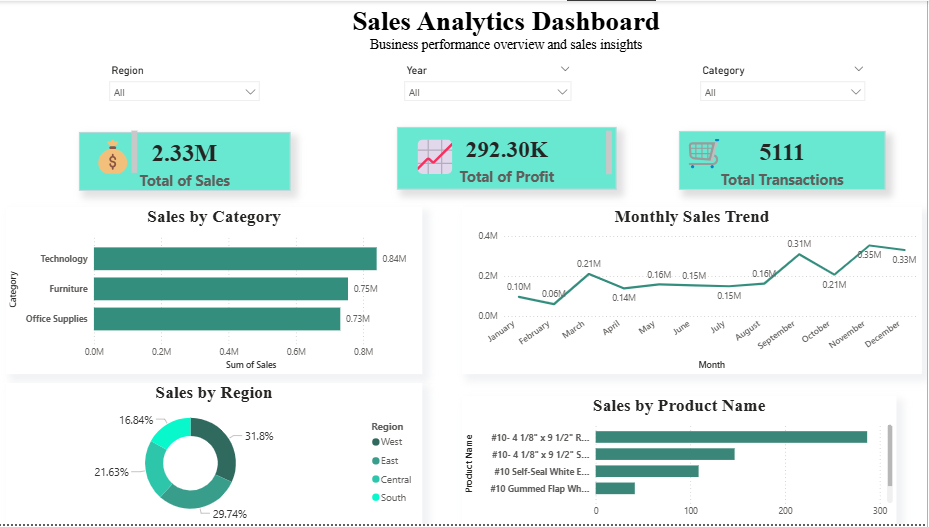

This screenshot's page, from the dashboard's own definition file:
{"tool":"powerbi","page":{"name":"Page 1","canvas":[1280,720],"ordinal":0},"visuals":[{"type":"card","fields":{"Values":["Sum(cleaned_superstore.Profit)"]},"box":[551,173.5,302.4,85.7],"z":0,"group":"g3"},{"type":"clusteredBarChart","title":" Sales by Category","fields":{"Y":["Sum(cleaned_superstore.Sales)"],"Category":["cleaned_superstore.Category"]},"box":[11.8,283.9,572.8,230.1],"z":0},{"type":"card","fields":{"Values":["Count(cleaned_superstore.Order ID)"]},"box":[939,178,283.9,80.6],"z":1000,"group":"g4"},{"type":"lineChart","title":"Monthly Sales Trend","fields":{"Y":["Sum(cleaned_superstore.Sales)"],"Category":["cleaned_superstore.Order Date.Variation.Date Hierarchy.Month"]},"box":[640,283.9,633.3,230.1],"z":1000},{"type":"card","fields":{"Values":["Sum(cleaned_superstore.Sales)"]},"box":[112.5,179.6,290.6,80.6],"z":2000,"group":"g1"},{"type":"donutChart","title":"Sales by Region","fields":{"Category":["cleaned_superstore.Region"],"Y":["Sum(cleaned_superstore.Sales)"]},"box":[11.8,525.8,572.8,194.9],"z":2000},{"type":"textbox","box":[231.8,1.7,939,80.6],"z":4000},{"type":"slicer","fields":{"Values":["cleaned_superstore.Order Date.Variation.Date Hierarchy.Year"]},"box":[551,82.3,250.3,90.7],"z":6000},{"type":"slicer","fields":{"Values":["cleaned_superstore.Region"]},"box":[144.5,82.3,226.8,73.9],"z":7000},{"type":"slicer","fields":{"Values":["cleaned_superstore.Category"]},"box":[957.5,82.3,246.9,73.9],"z":8000},{"type":"group","id":"g1","title":"Group 1","box":[112.5,173,290.6,87.3],"z":9000},{"type":"textbox","box":[120.7,173,77.3,70.6],"z":9000,"group":"g1"},{"type":"textbox","box":[565.2,173,287.2,72.2],"z":10000,"group":"g3"},{"type":"textbox","box":[939,173,117.6,87.3],"z":11000,"group":"g4"},{"type":"group","id":"g2","title":"Group 2","box":[551,173,302.4,87.3],"z":14002},{"type":"group","id":"g3","title":"Group 3","box":[551,173,302.4,86.1],"z":14003,"group":"g2"},{"type":"group","id":"g4","title":"Group 4","box":[939,173,283.9,87.3],"z":14003},{"type":"clusteredBarChart","title":"Sales by Product Name","fields":{"Category":["cleaned_superstore.Product Name"],"Y":["Sum(cleaned_superstore.Sales)"]},"box":[640,544.3,598,176.4],"z":14004}]}

Visuals, with their boxes in screenshot pixels (x1, y1, x2, y2), scaled from the page's 1280x720 canvas onto the 929x527 screenshot:
card - Sum(cleaned_superstore.Profit): bbox=(400, 127, 619, 190)
" Sales by Category" clusteredBarChart: bbox=(9, 208, 424, 376)
card - Count(cleaned_superstore.Order ID): bbox=(682, 130, 888, 189)
"Monthly Sales Trend" lineChart: bbox=(464, 208, 924, 376)
card - Sum(cleaned_superstore.Sales): bbox=(82, 131, 293, 190)
"Sales by Region" donutChart: bbox=(9, 385, 424, 526)
textbox: bbox=(168, 1, 850, 60)
slicer - cleaned_superstore.Order Date.Variation.Date Hierarchy.Year: bbox=(400, 60, 582, 127)
slicer - cleaned_superstore.Region: bbox=(105, 60, 269, 114)
slicer - cleaned_superstore.Category: bbox=(695, 60, 874, 114)
"Group 1" group: bbox=(82, 127, 293, 191)
textbox: bbox=(88, 127, 144, 178)
textbox: bbox=(410, 127, 619, 179)
textbox: bbox=(682, 127, 767, 191)
"Group 2" group: bbox=(400, 127, 619, 191)
"Group 3" group: bbox=(400, 127, 619, 190)
"Group 4" group: bbox=(682, 127, 888, 191)
"Sales by Product Name" clusteredBarChart: bbox=(464, 398, 899, 526)
